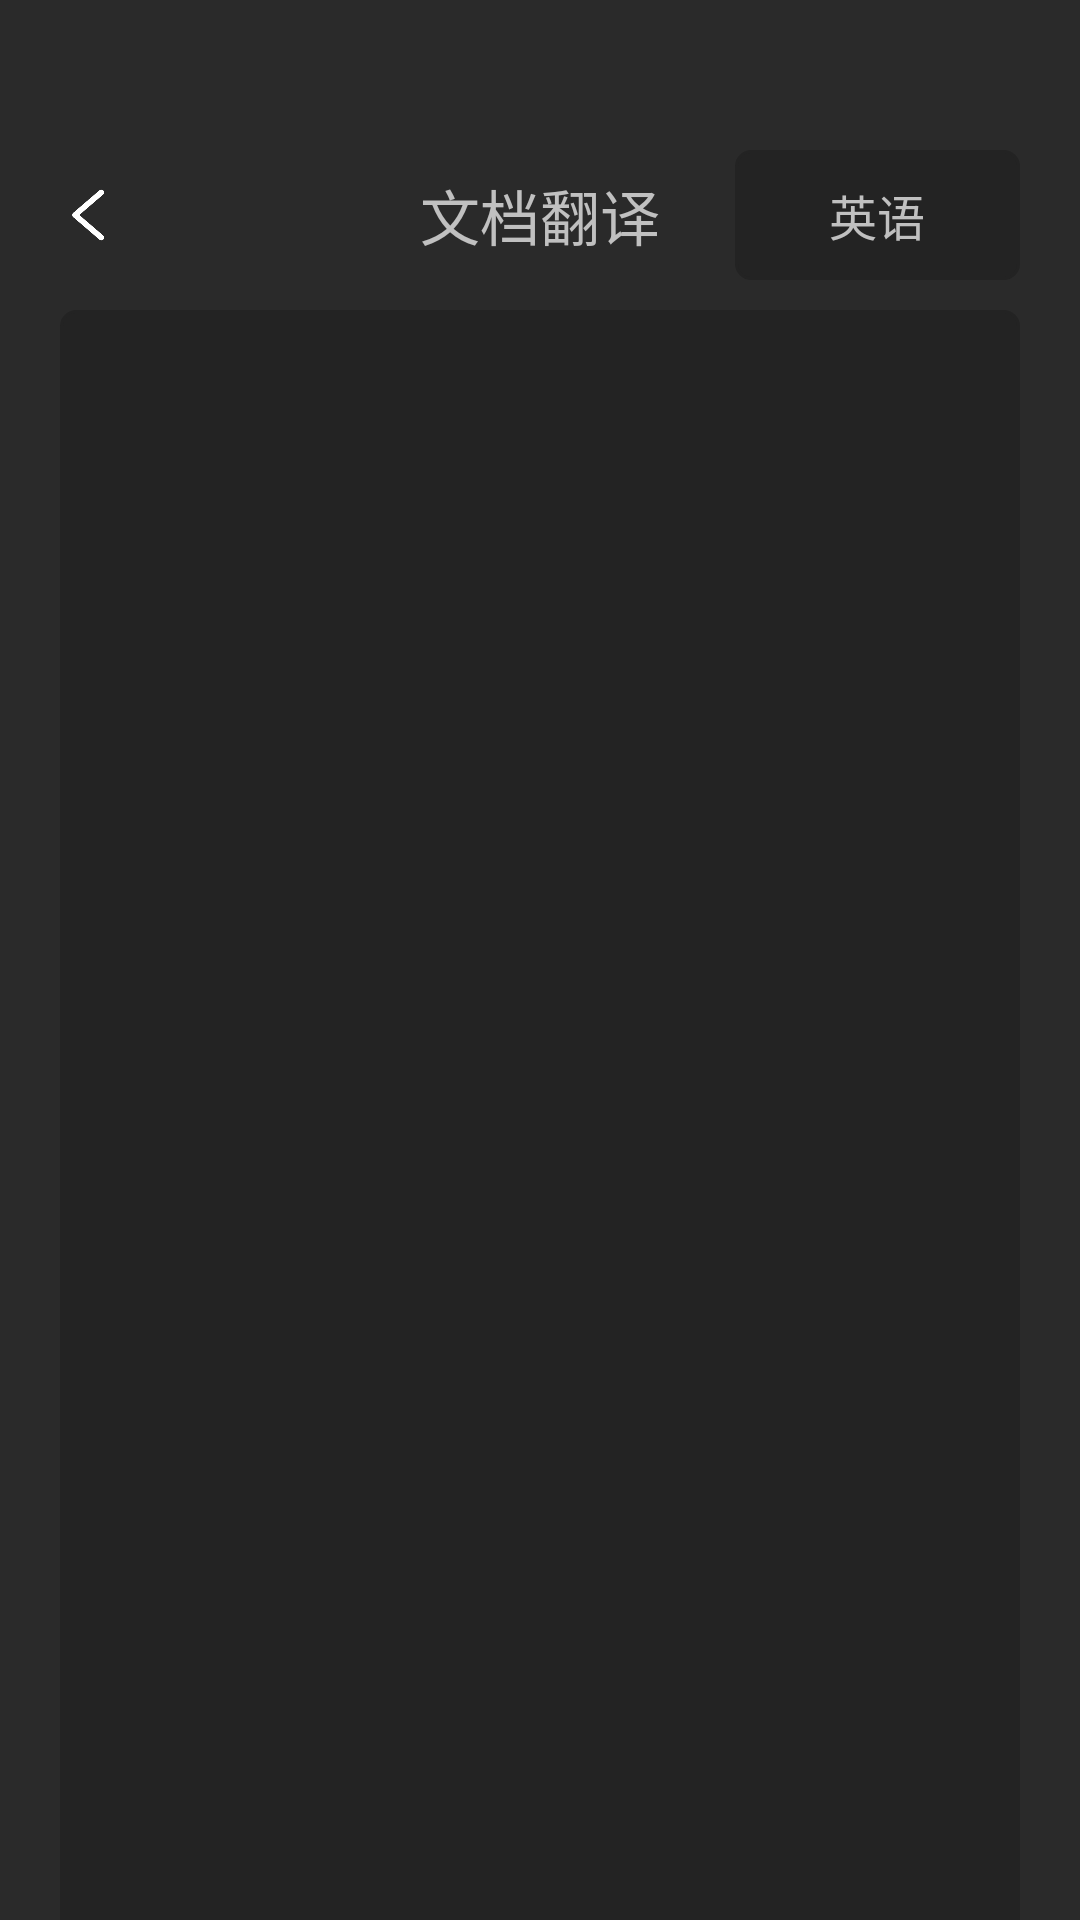

Named icons in this screenshot (1080px x 1920px) and their bounding boxes, Rect(x1, y1, x2, y2):
left: Rect(72, 190, 104, 241)
